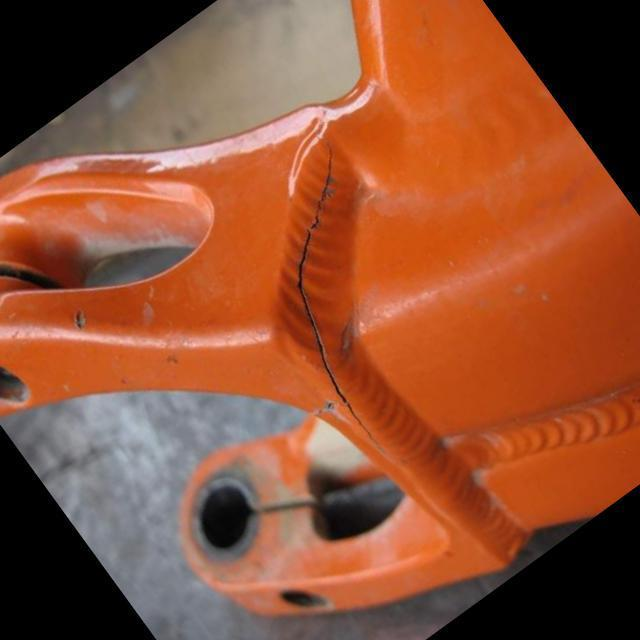defect: (293, 124, 414, 467)
